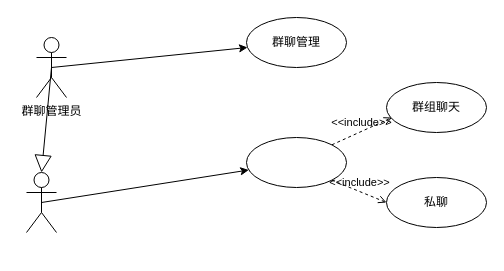
Some shapes in this 504 by 271 pixel diagram are drawn without their labels. Each missing label, with the centre of its shape:
聊天: the point at 296,162
项目成员: the point at 41,202
